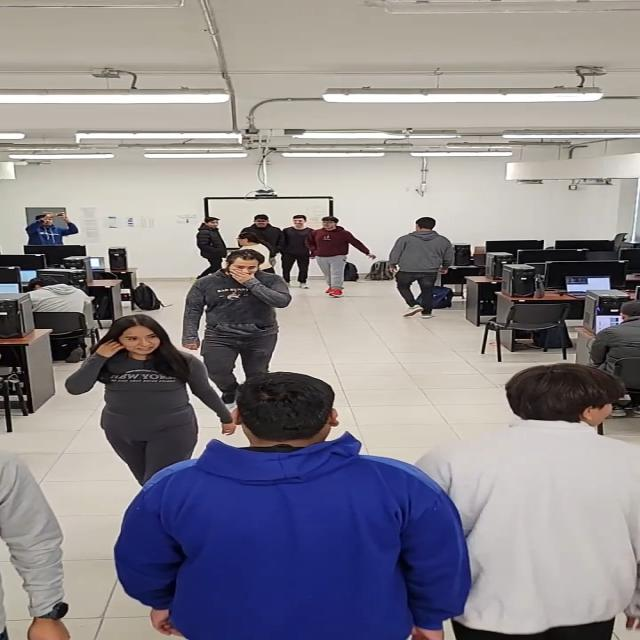Persona: (126, 372, 461, 640), (433, 356, 639, 640), (89, 313, 198, 468), (184, 252, 288, 378), (391, 215, 451, 322), (312, 213, 362, 303), (189, 215, 228, 272), (284, 213, 314, 287), (240, 215, 277, 256)
